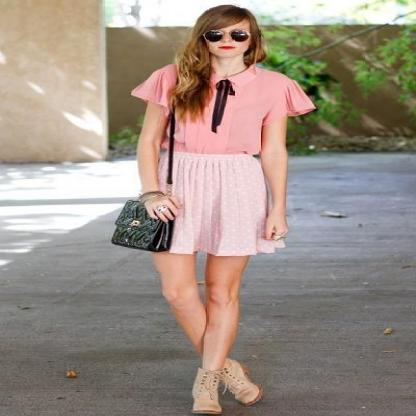bag: (111, 124, 175, 252)
shirt: (131, 62, 311, 155)
shoe: (192, 361, 258, 411)
skirt: (162, 151, 286, 255)
sunglass: (197, 28, 237, 47)
